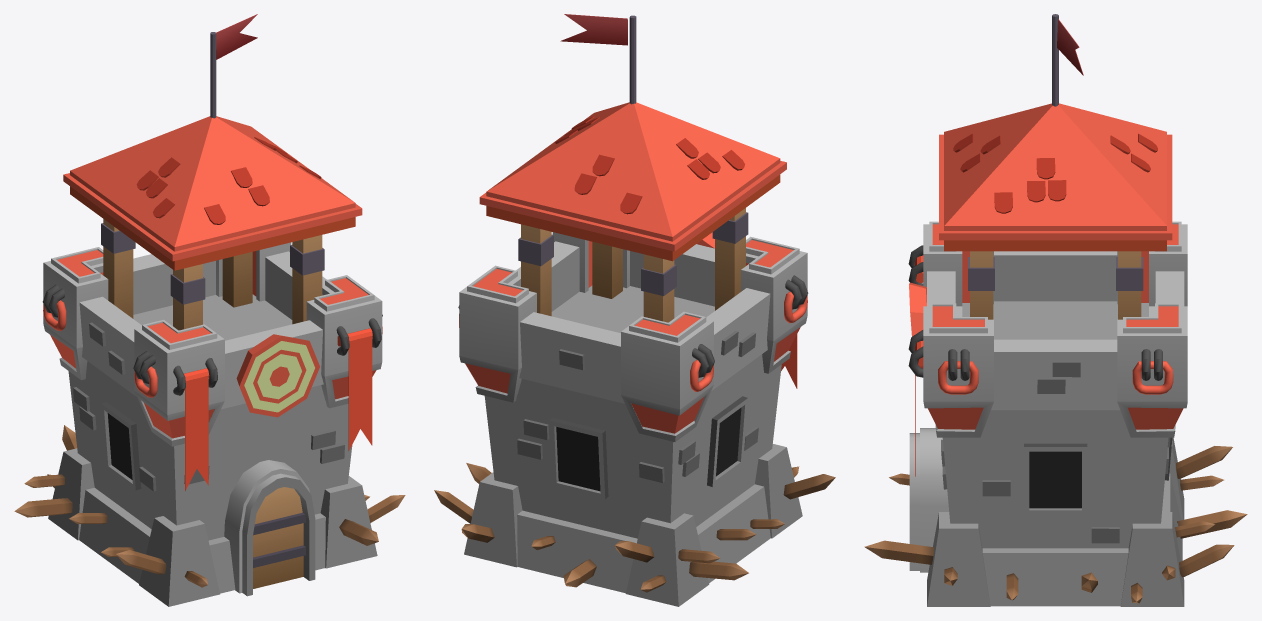
Rendered from Archer Tower lv3.fbx.
3 views of the same model, side by side, from view 1: azimuth 30°, elevation 25°; view 2: azimuth 150°, elevation 25°; view 3: azimuth 270°, elevation 25° (orthographic). The views are drawn at different scales.
Parts seen in each view (by area): view 1: Archer Tower Lv 3; view 2: Archer Tower Lv 3; view 3: Archer Tower Lv 3.
Part boxes in pixels (x1=…): Archer Tower Lv 3: x1=14, y1=14, x2=405, y2=606; Archer Tower Lv 3: x1=434, y1=14, x2=835, y2=606; Archer Tower Lv 3: x1=864, y1=14, x2=1247, y2=606.
Size of the model in its own units: 1174 by 1870 by 1208.
